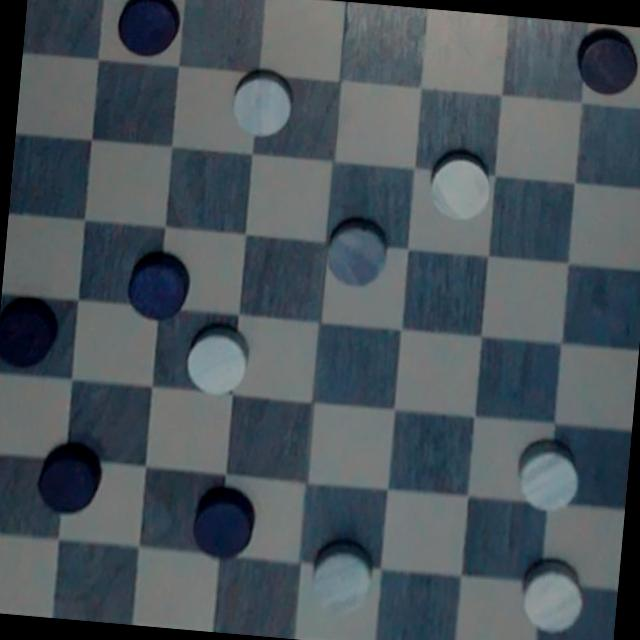BOARD: (0, 0, 640, 640)
black: (105, 0, 204, 61), (182, 488, 263, 562), (30, 441, 104, 522), (114, 246, 194, 319), (570, 27, 640, 101), (0, 281, 57, 370)
white: (312, 212, 396, 296), (515, 559, 597, 640), (306, 534, 381, 620), (508, 438, 586, 518), (224, 66, 304, 144), (182, 320, 256, 400), (424, 150, 498, 228)
